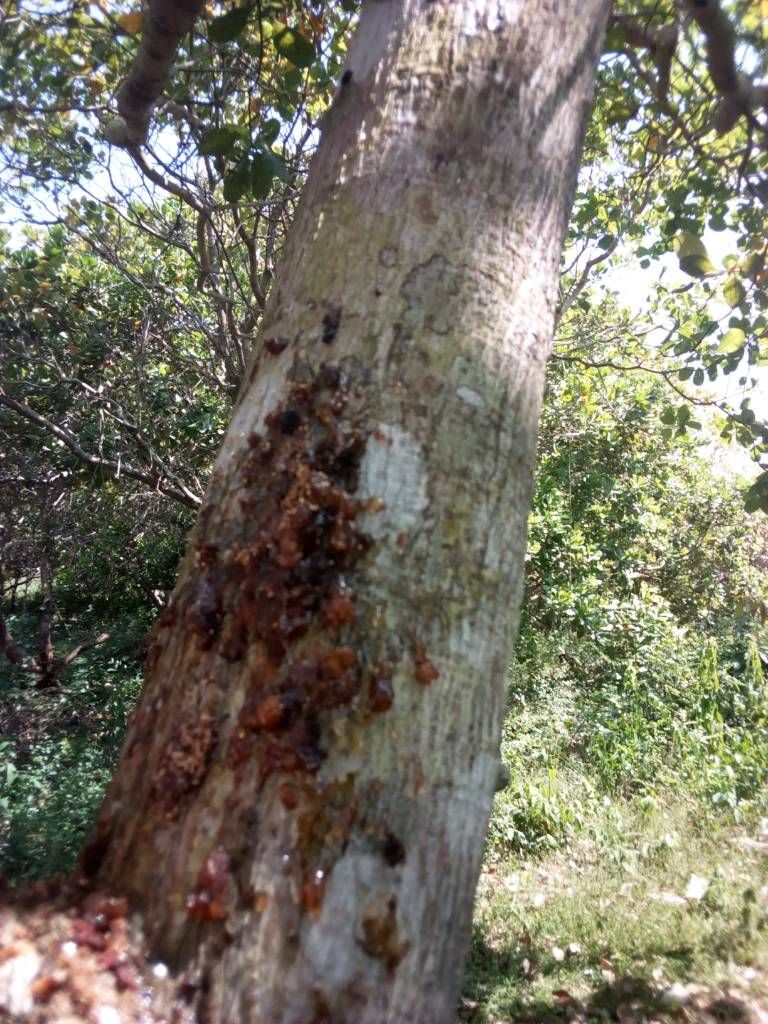Gommose: (154, 375, 375, 910)
